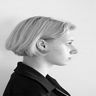ear: (33, 35, 53, 58)
